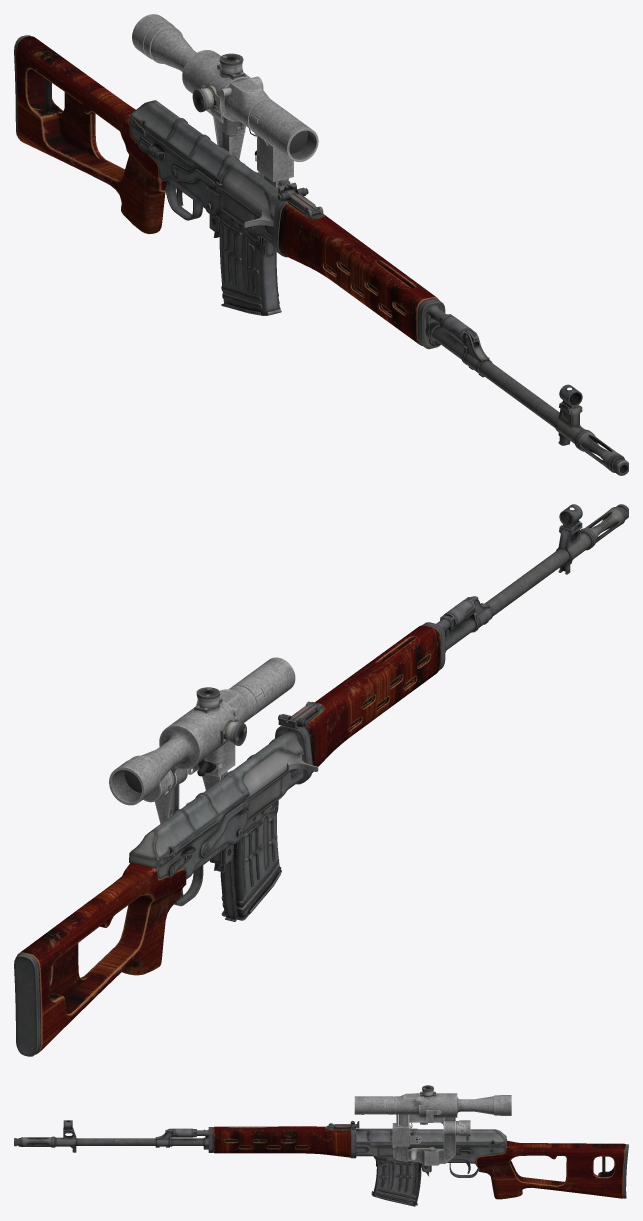
File: marshalplz.glb
3 views of the same model, one above another, from view 1: azimuth 30°, elevation 25°; view 2: azimuth 150°, elevation 25°; view 3: azimuth 270°, elevation 25° (orthographic). The views are drawn at different scales.
Visible parts, largest first — view 1: Object_5, Object_3, Object_4, Object_2; view 2: Object_5, Object_3, Object_4, Object_2; view 3: Object_5, Object_3, Object_4, Object_2.
Part boxes in pixels (x1,y1,x2,y2): Object_5: (14, 35, 445, 349); Object_3: (128, 100, 628, 475); Object_4: (132, 14, 318, 187); Object_2: (176, 167, 281, 315); Object_5: (14, 622, 445, 1056); Object_3: (129, 504, 628, 921); Object_4: (109, 657, 295, 823); Object_2: (180, 750, 318, 920); Object_5: (208, 1126, 628, 1199); Object_3: (14, 1120, 506, 1205); Object_4: (354, 1085, 511, 1165); Object_2: (371, 1157, 470, 1206).
Size of what is drawn, in the model's own units: 0.4414 by 1.21 by 5.63.
Materials: 3 (3 with a texture image).
